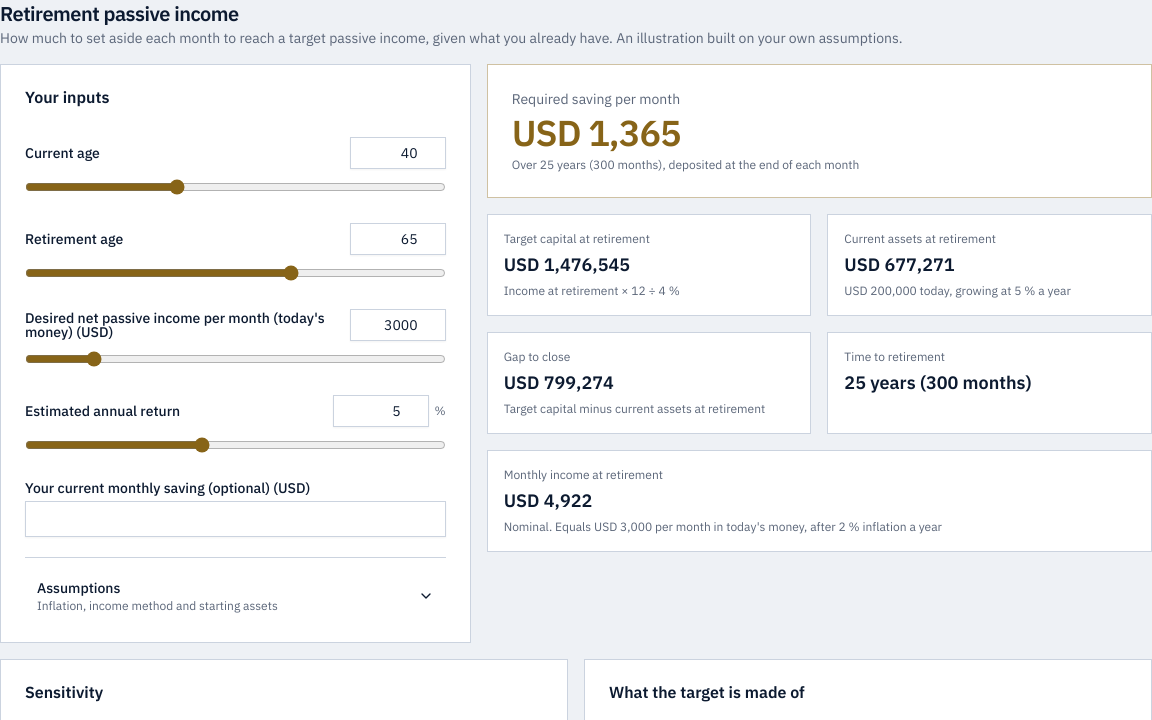
Test: defaults and result › matches the worked example (40 to 60, 5 %, no inflation: about 910 per month)
This screenshot has width=1152, height=720.
Replace the text in the number field labelled "Retirement age" with "60": (398, 239) [350, 223, 446, 255]
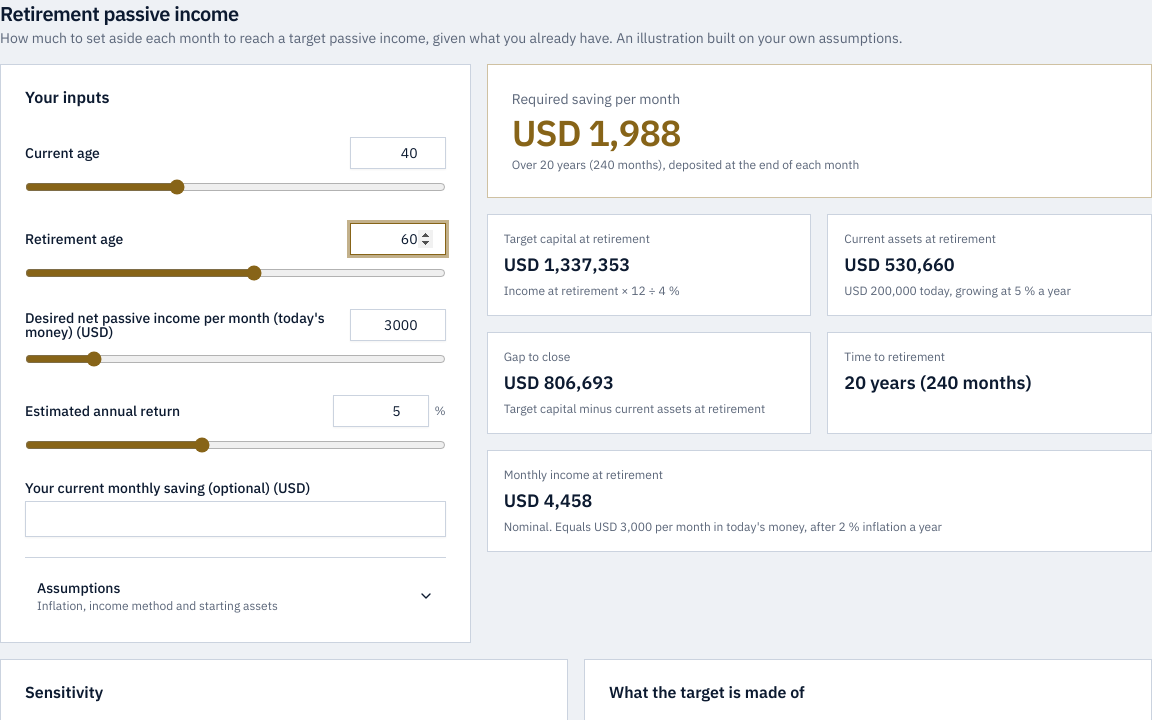
Click the button "Assumptions Inflation, income method and starting assets": (235, 596) [25, 574, 446, 618]
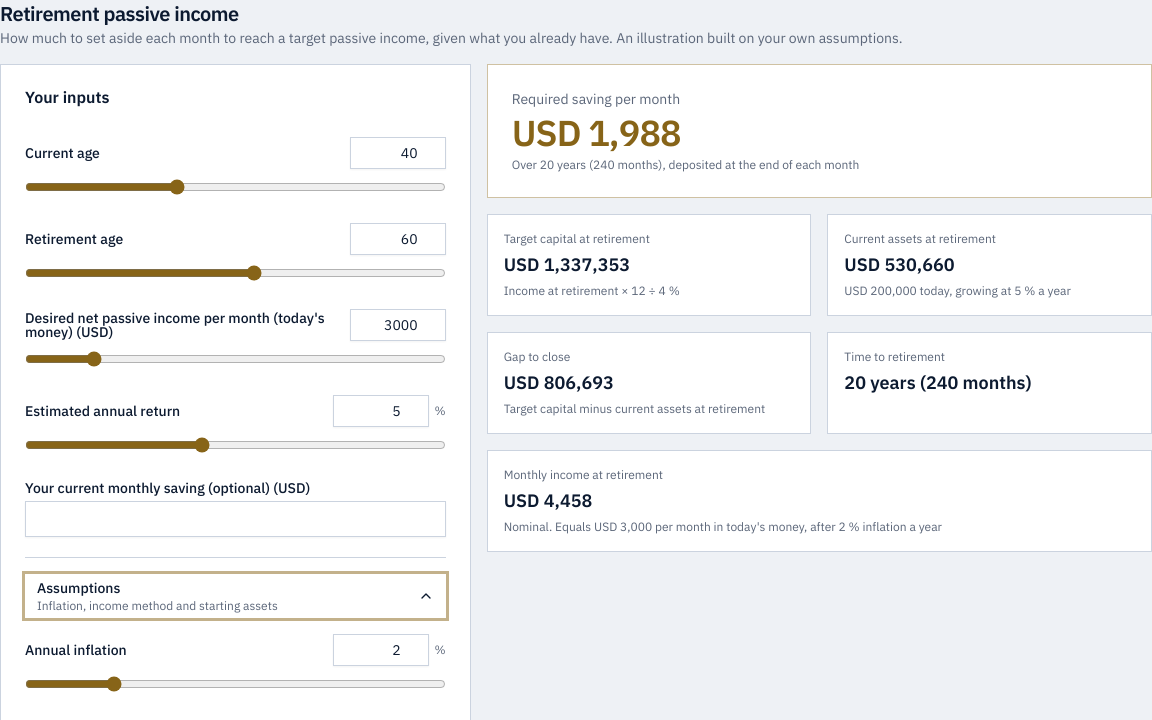
Replace the text in the number field labelled "Annual inflation" with "0": (380, 650) [332, 634, 428, 666]
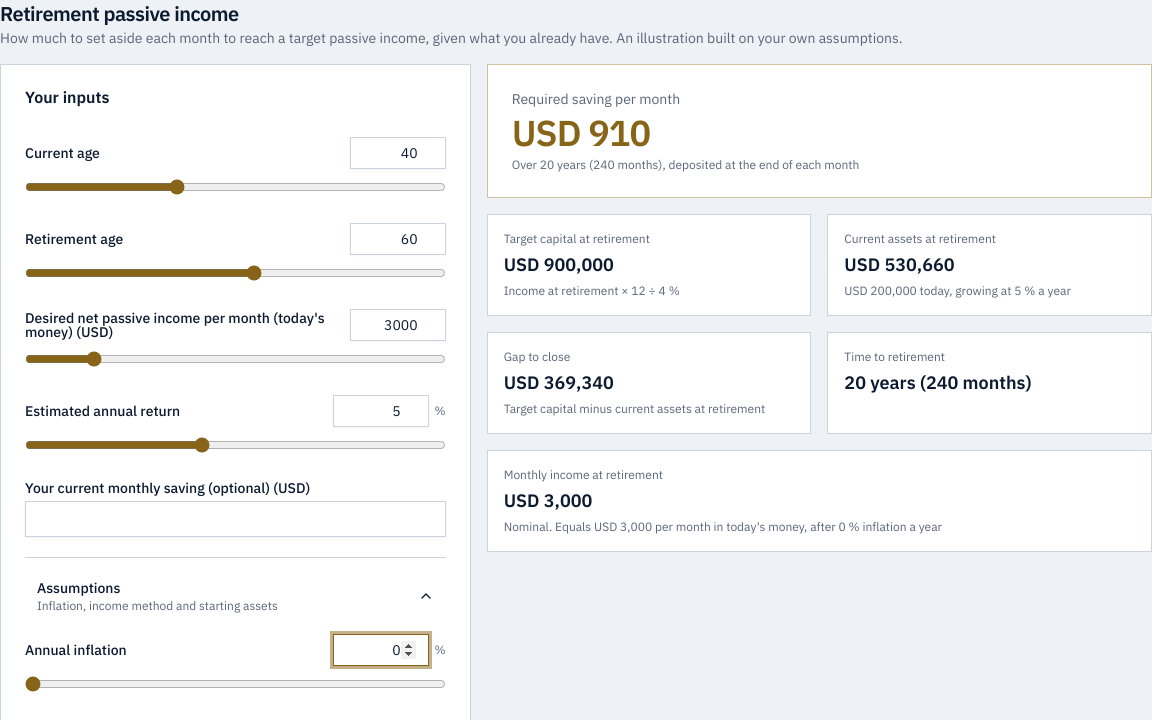
Result: the text with test id "ret-required" reads "USD 910" at [512, 109, 650, 156]
Result: the text with test id "ret-target" reads "USD 900,000" at [504, 253, 614, 276]
Result: the text with test id "ret-gap" reads "USD 369,340" at [504, 371, 614, 394]
